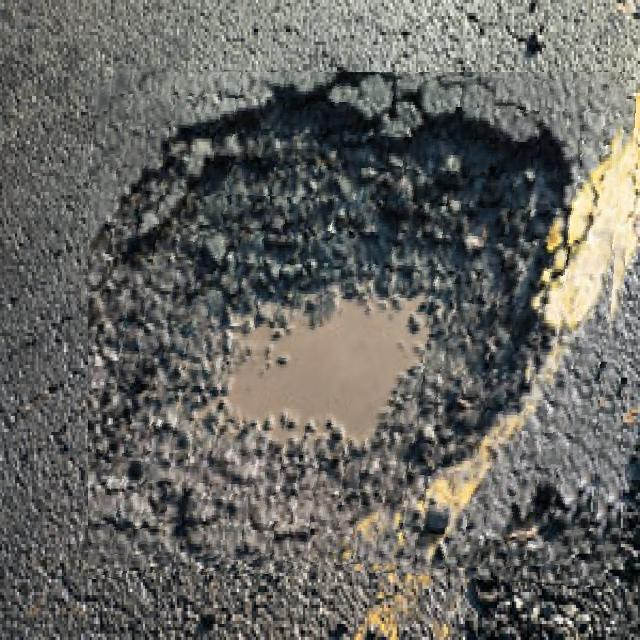Pothole: (89, 72, 628, 580)
